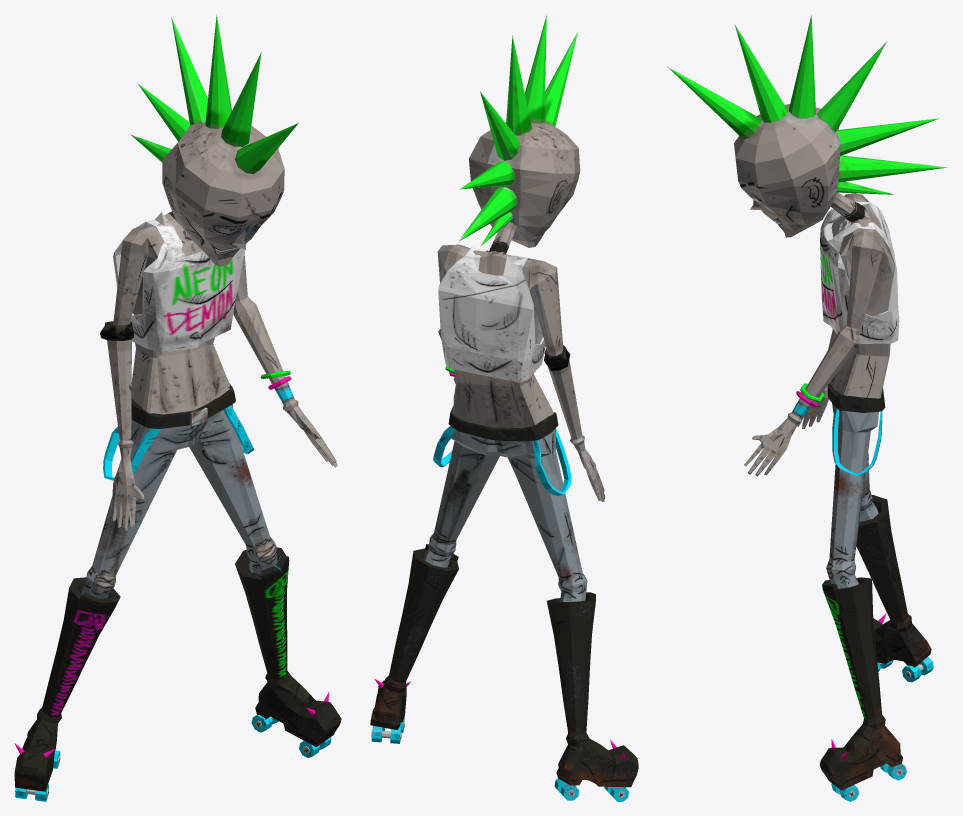
File: punkAnimation_000133.obj
3 renders of one model, left to right at view 1: azimuth 30°, elevation 25°; view 2: azimuth 150°, elevation 25°; view 3: azimuth 270°, elevation 25°, orthographic. The views are drawn at different scales.
Parts seen in each view (by area): view 1: Cube.004_Cube.003; view 2: Cube.004_Cube.003; view 3: Cube.004_Cube.003.
Boxes of the visible parts, x1,y1,x2,y2 form: Cube.004_Cube.003: (14,14,341,801); Cube.004_Cube.003: (370,14,638,801); Cube.004_Cube.003: (667,15,948,801).
Bounding box in the file's own units: 3.03 × 7.38 × 2.58.
